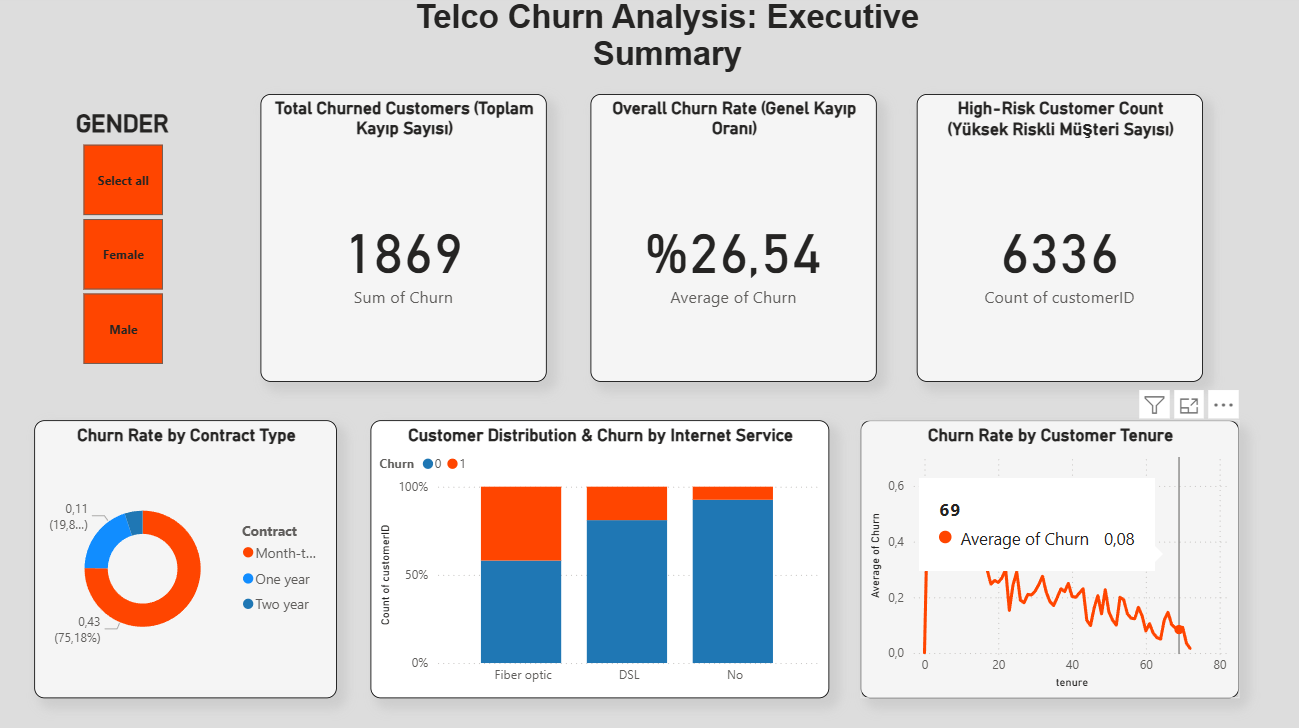

What the dashboard file says about the page in this screenshot:
{"tool":"powerbi","page":{"name":"1. Executive Summary","canvas":[1280,720],"ordinal":0},"visuals":[{"type":"card","title":"Overall Churn Rate (Genel Kayıp Oranı)","fields":{"Values":["Avg(telco_churn_final_V2.Churn)"]},"box":[579.1,97.4,279.9,281.3],"z":0},{"type":"card","title":"Total Churned Customers (Toplam Kayıp Sayısı)","fields":{"Values":["Sum(telco_churn_final_V2.Churn)"]},"box":[256.6,97.4,279.9,281.3],"z":1000},{"type":"card","title":"High-Risk Customer Count (Yüksek Riskli Müşteri Sayısı)","fields":{"Values":["Count(telco_churn_final_V2.customerID)"]},"box":[898.8,97.4,279.9,281.3],"z":2000},{"type":"textbox","box":[354.6,0,600.4,84.4],"z":3000},{"type":"slicer","title":"GENDER","fields":{"Values":["telco_churn_final_V2.gender"]},"box":[47.7,97.8,148,281.3],"z":4000},{"type":"donutChart","title":"Churn Rate by Contract Type","fields":{"Category":["telco_churn_final_V2.Contract"],"Y":["Avg(telco_churn_final_V2.Churn)"]},"box":[35.7,417.2,296.4,271.7],"z":5000},{"type":"hundredPercentStackedColumnChart","title":"Customer Distribution & Churn by Internet Service","fields":{"Category":["telco_churn_final_V2.InternetService"],"Y":["Count(telco_churn_final_V2.customerID)"],"Series":["telco_churn_final_V2.Churn"]},"box":[365,417.2,448.7,271.7],"z":6000},{"type":"lineChart","title":"Churn Rate by Customer Tenure","fields":{"Category":["telco_churn_final_V2.tenure"],"Y":["Avg(telco_churn_final_V2.Churn)"]},"box":[843.9,417.2,370.5,271.7],"z":7000}]}

Visuals, with their boxes in screenshot pixels (x1, y1, x2, y2), scaled from the page's 1280x720 canvas onto the 1299x728 screenshot:
"Overall Churn Rate (Genel Kayıp Oranı)" card: 588, 98, 872, 383
"Total Churned Customers (Toplam Kayıp Sayısı)" card: 260, 98, 544, 383
"High-Risk Customer Count (Yüksek Riskli Müşteri Sayısı)" card: 912, 98, 1196, 383
textbox: 360, 0, 969, 85
"GENDER" slicer: 48, 99, 199, 383
"Churn Rate by Contract Type" donutChart: 36, 422, 337, 697
"Customer Distribution & Churn by Internet Service" hundredPercentStackedColumnChart: 370, 422, 826, 697
"Churn Rate by Customer Tenure" lineChart: 856, 422, 1232, 697
